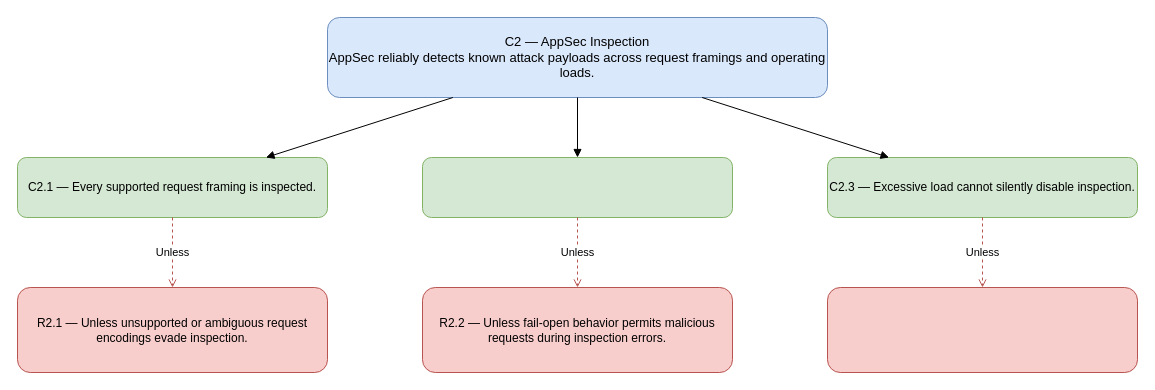
Some shapes in this 1155 by 390 pixel diagram are drawn without their labels. Each missing label, with the centre of its shape:
"C2.2 — Inspection failures follow a fail-safe policy." goes at (577,187).
"R2.3 — Unless resource exhaustion causes inspection delays or bypasses." goes at (982,329).
